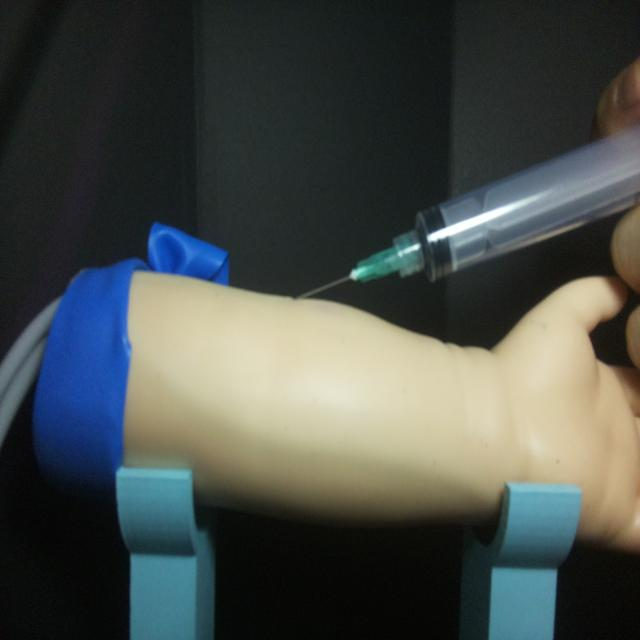15deg: (291, 120, 638, 304)
